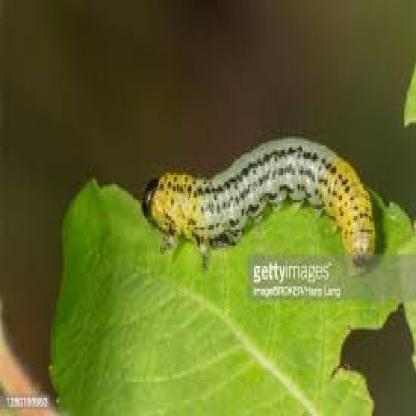sawfly: (142, 133, 378, 265)
